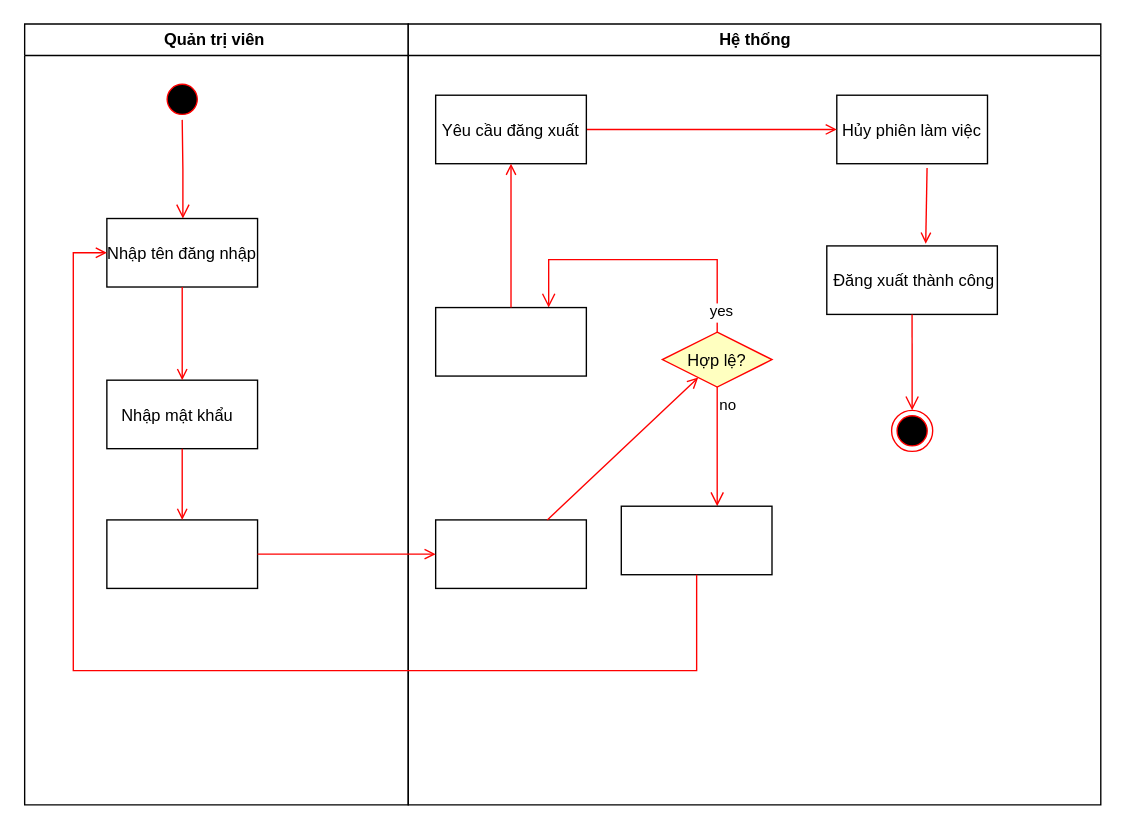
Some shapes in this 1125 by 829 pixel diagram are drawn without their labels. The shapes that lost their labels are listed below. From the top down, each one's centre as x and y in pixels, then its label:
At point 510,341: "Truy cập hệ thống".
At point 181,553: "Yêu cầu đăng nhập".
At point 510,553: "Kiểm tra tài khoản".
At point 696,540: "Đăng nhập lỗi".
